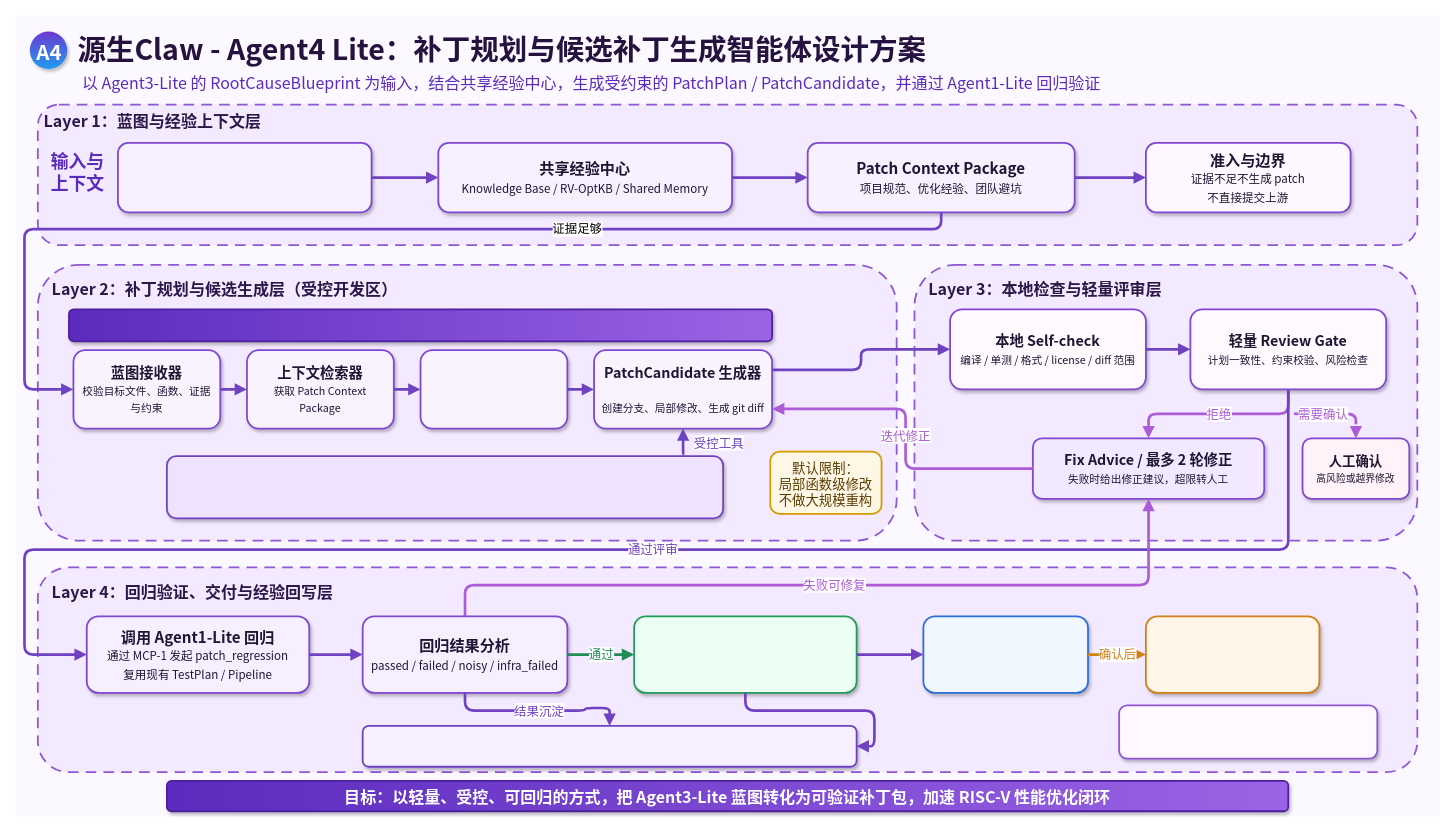
Image size: 1454x833. Some labels were removed from this diagram. Each missing label, with the centre of its shape:
"Agent3-Lite 蓝图输入 RootCauseBlueprint / 根因、约束、验证计划" goes at (245,178).
"Agent4-Lite 核心流水线：先规划，再生成补丁" goes at (421,326).
"MCP-5 Lite 工具集 代码搜索 / tree-sitter AST / apply_patch / Git Diff / 本地命令白名单" goes at (445,488).
"PatchPlan 生成器 修改范围、步骤、风险、验证计划" goes at (494,390).
"VerifiedPatchPackage patch_ref、diff_summary、测试证据、风险说明" goes at (745,655).
"交给 Agent5 PR / Patch Series 开源贡献流程" goes at (1233,655).
"共享经验中心回写：RV-OptKB 记录验证结果与优化案例；Shared Memory 记录失败原因、测试坑点、交接摘要" goes at (610,747).
"关键原则 不直接提交上游；不直接控制硬件；不绕过 Agent1-Lite 回归；低证据不生成 Patch" goes at (1248,732).
"开发者确认 查看 patch、证据、提交说明" goes at (1006,655).
